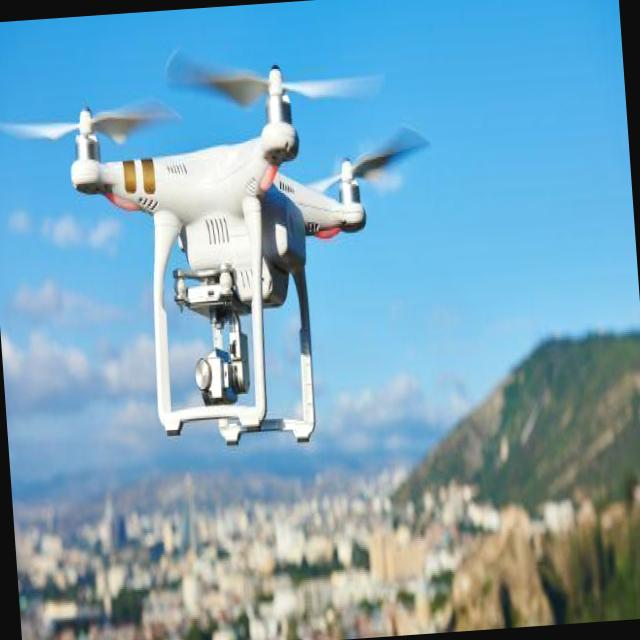drone: (61, 34, 382, 454)
